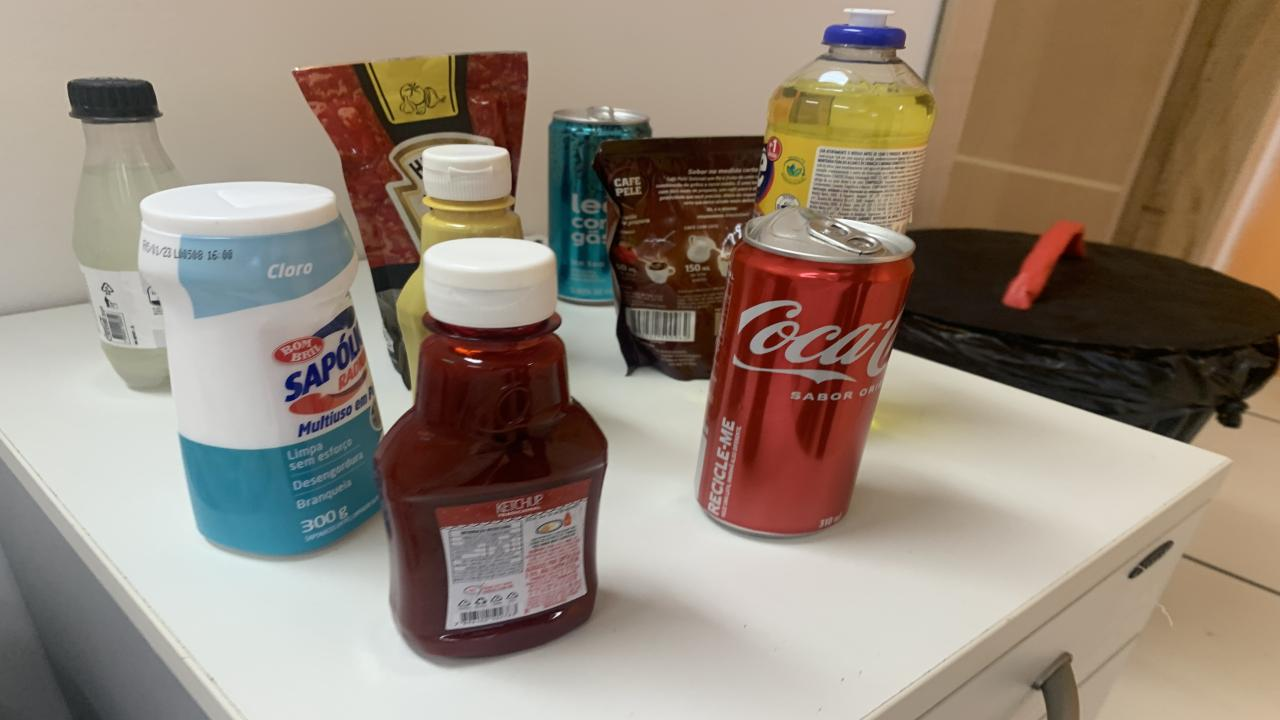Cleaner-Cleanup_Items: (140, 182, 380, 553)
Coffee-Pantry_Items: (592, 137, 762, 381)
Coke-Drinks: (698, 204, 915, 536)
Detergent-Cleanup_Items: (755, 9, 935, 232)
Ketchup-Pantry_Items: (375, 238, 608, 658)
Mustard-Pantry_Items: (420, 144, 522, 255), (398, 264, 428, 388)
Soda-Drinks: (68, 77, 182, 390)
Tea-Drinks: (548, 107, 652, 304)
Tomato_Sauce-Pantry_Items: (292, 52, 528, 381)
